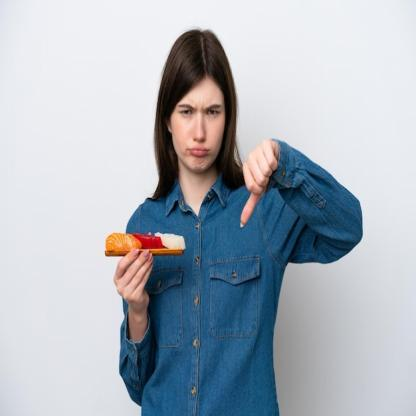thumb_down: (236, 138, 280, 233)
